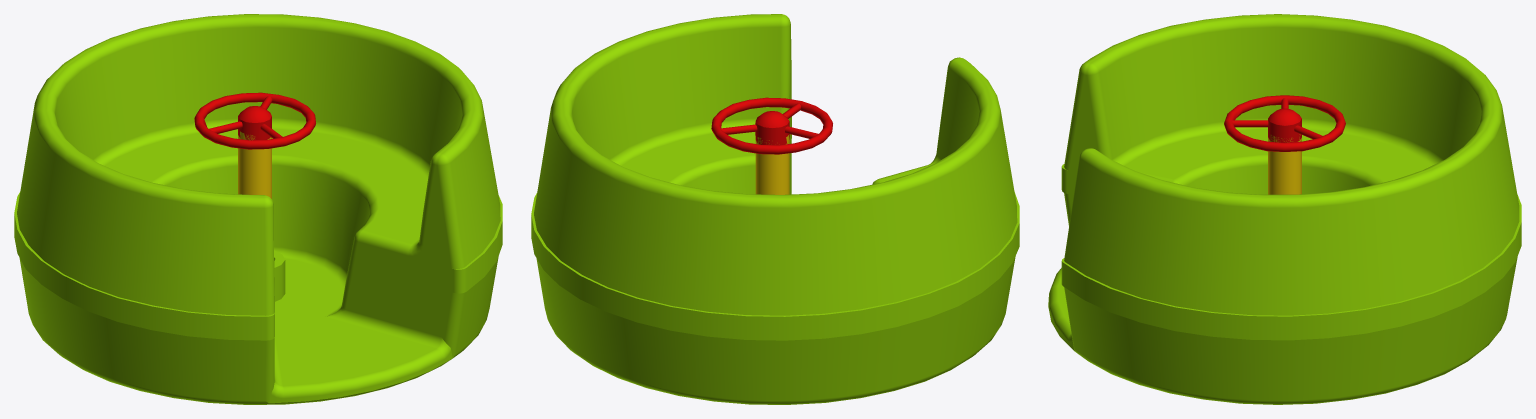
Rendered from 4072-CalesitaRotomoldeo.FBX.
3 views of the same model, side by side, from view 1: azimuth 30°, elevation 25°; view 2: azimuth 150°, elevation 25°; view 3: azimuth 270°, elevation 25° (orthographic).
Size of the model in its own units: 51.13 by 24.2 by 49.62.
